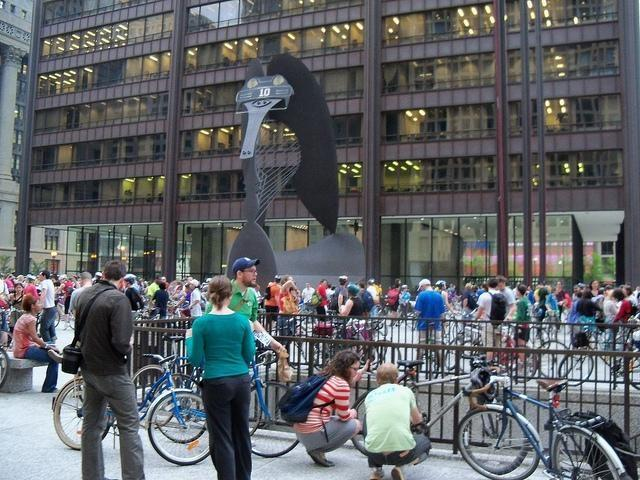bicycle: (145, 346, 299, 467), (455, 375, 629, 480), (460, 318, 538, 382), (558, 324, 640, 384), (311, 321, 399, 373), (130, 356, 202, 410), (530, 324, 575, 377), (421, 323, 440, 379), (0, 310, 13, 350), (444, 342, 458, 371), (378, 294, 394, 318), (372, 330, 386, 344)
